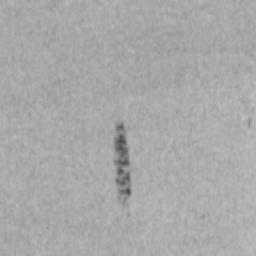Secondary rust skin: (114, 122, 132, 200)
